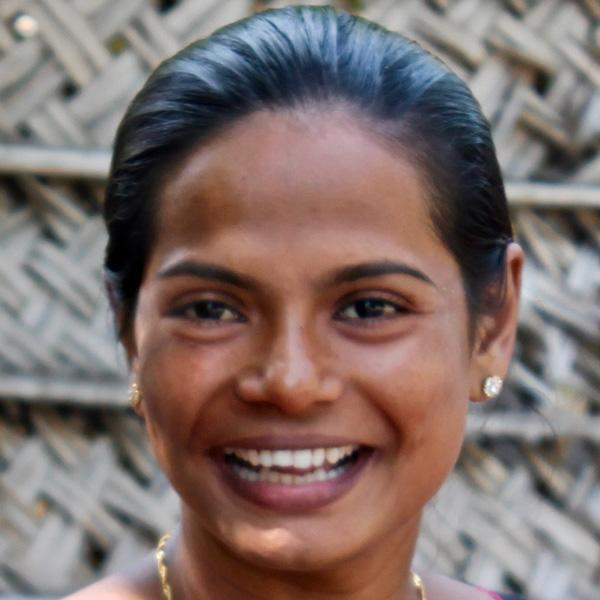Eyes: (322, 278, 431, 343), (154, 277, 258, 344)
